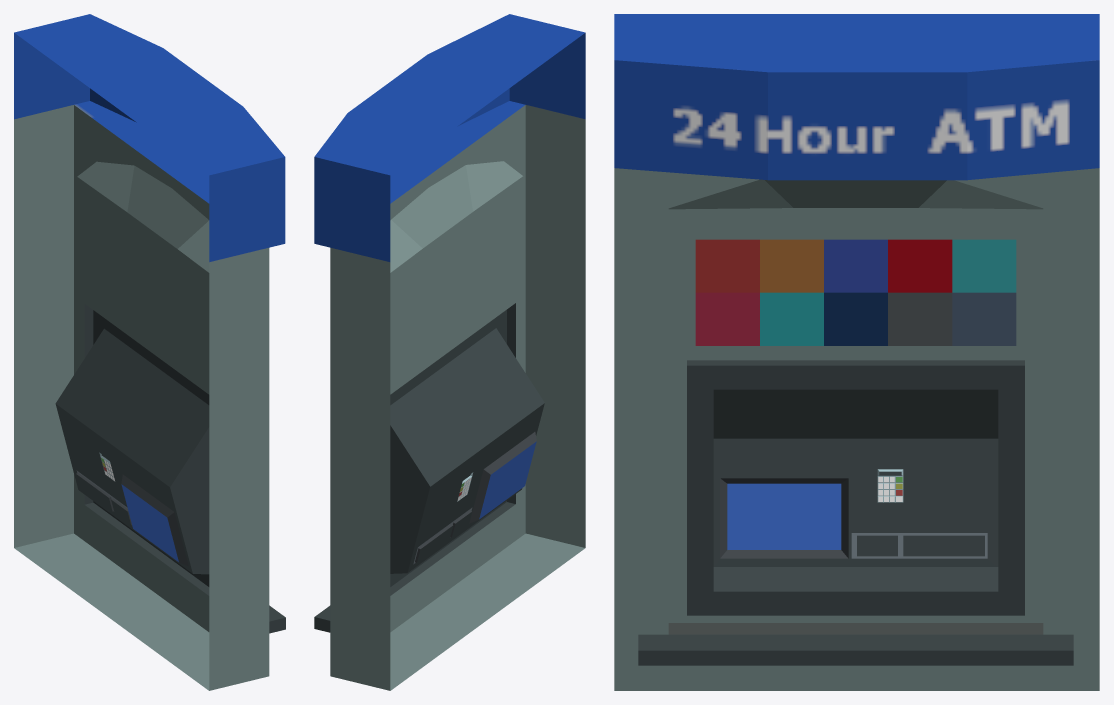
File: ATM.fbx
3 views of the same model, side by side, from view 1: azimuth 30°, elevation 25°; view 2: azimuth 150°, elevation 25°; view 3: azimuth 270°, elevation 25° (orthographic). The views are drawn at different scales.
Visible parts, largest first — view 1: ATM; view 2: ATM; view 3: ATM.
Boxes of the visible parts, bbox=[...] form: ATM: bbox=[14, 14, 285, 690]; ATM: bbox=[314, 14, 585, 690]; ATM: bbox=[614, 14, 1099, 690].
Size of the model in its own units: 27.16 by 139 by 95.55.
Materials: 1 (1 with a texture image).
